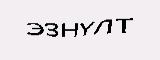З: (43, 21, 59, 39)
Л: (94, 17, 114, 37)
Н: (59, 20, 79, 38)
Т: (116, 16, 134, 35)
Э: (26, 21, 43, 36)
Ү: (78, 19, 94, 36)
